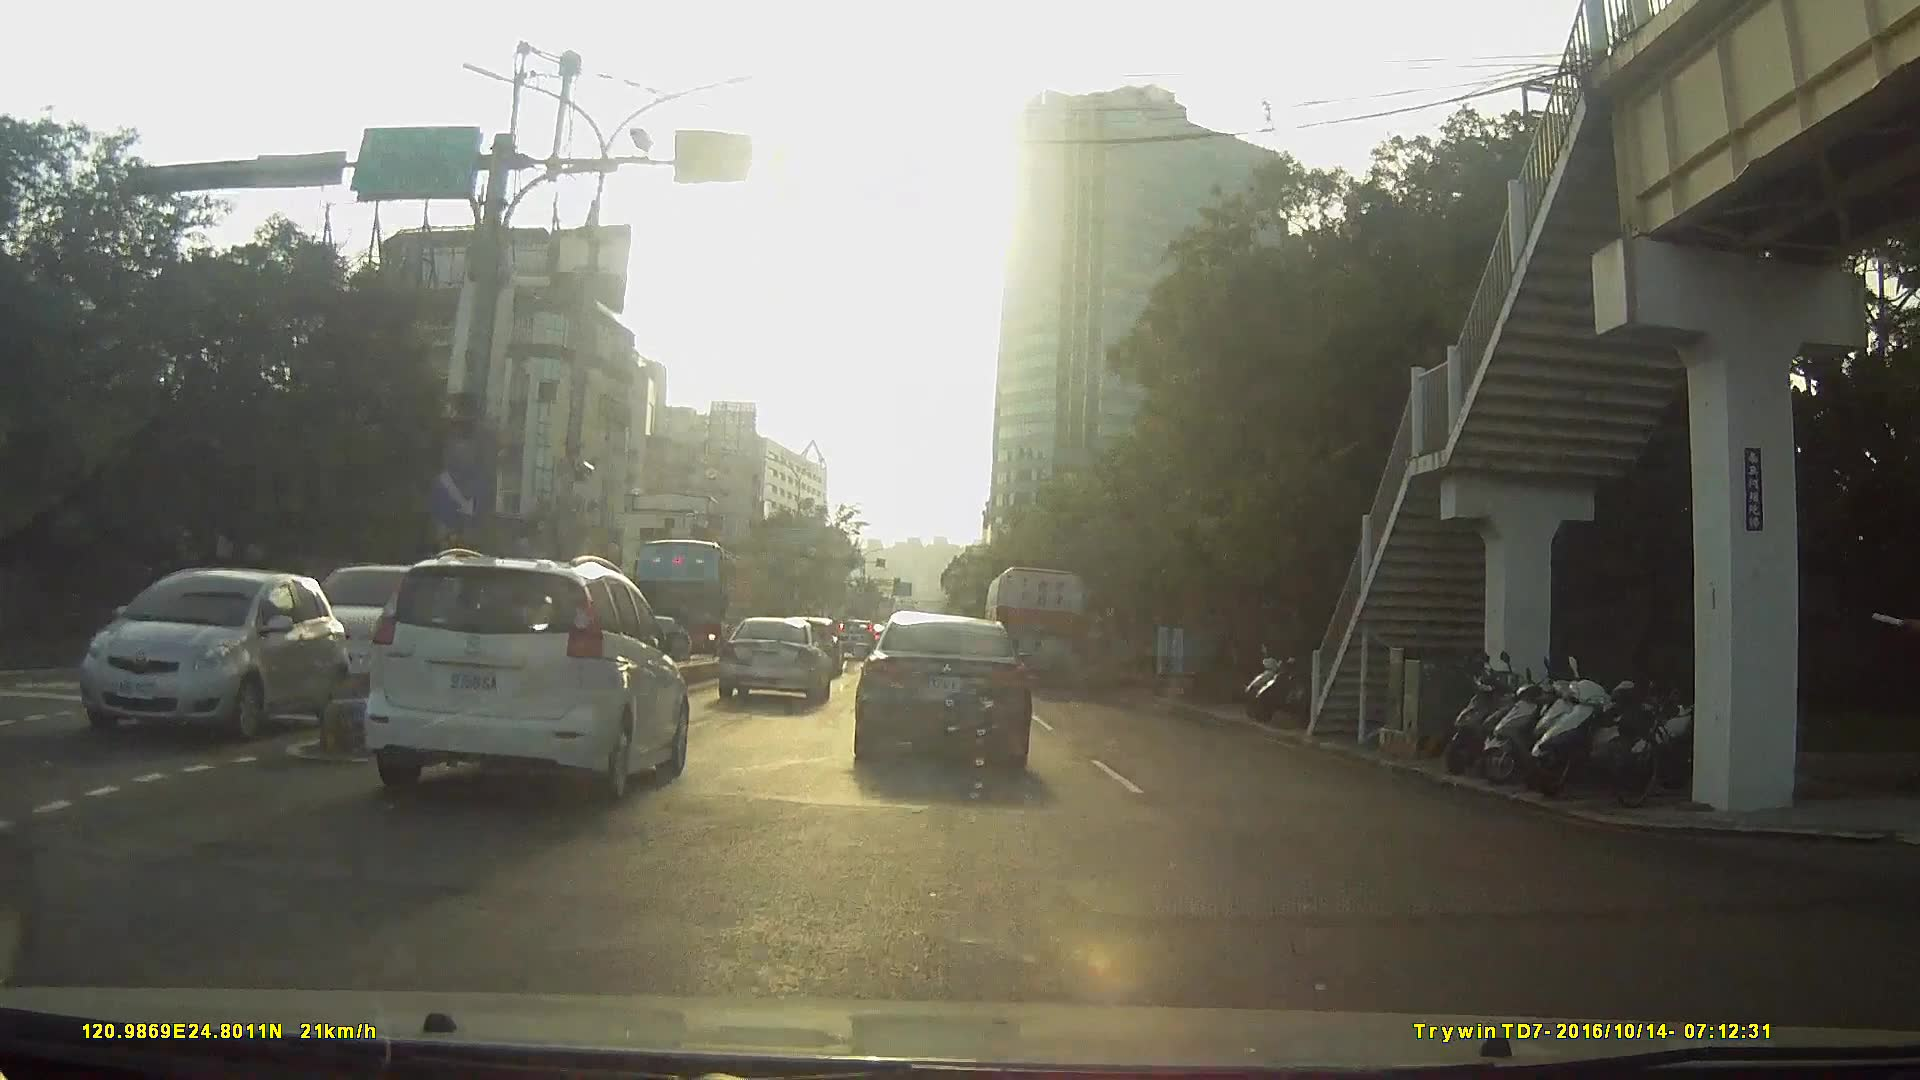vehicle: (251, 556, 684, 868), (363, 549, 691, 803), (47, 559, 348, 756), (287, 559, 491, 712), (855, 607, 1034, 775), (624, 535, 754, 659), (984, 563, 1091, 695), (719, 615, 832, 707), (833, 617, 880, 659)
